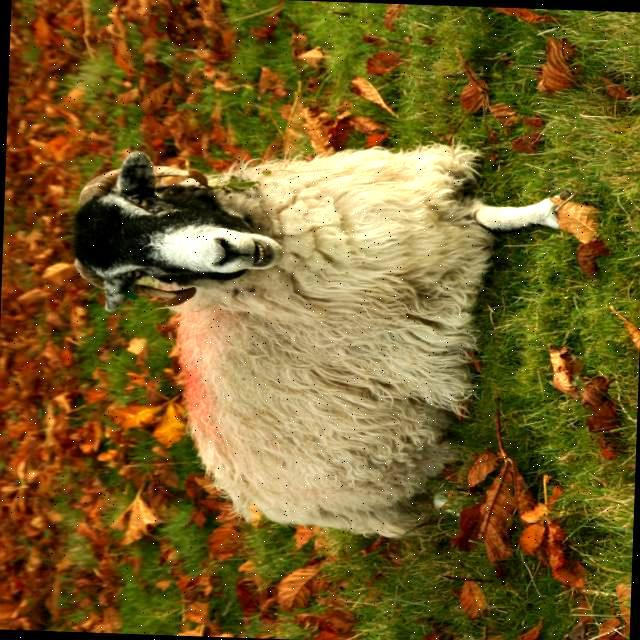sheep: (71, 142, 556, 525)
